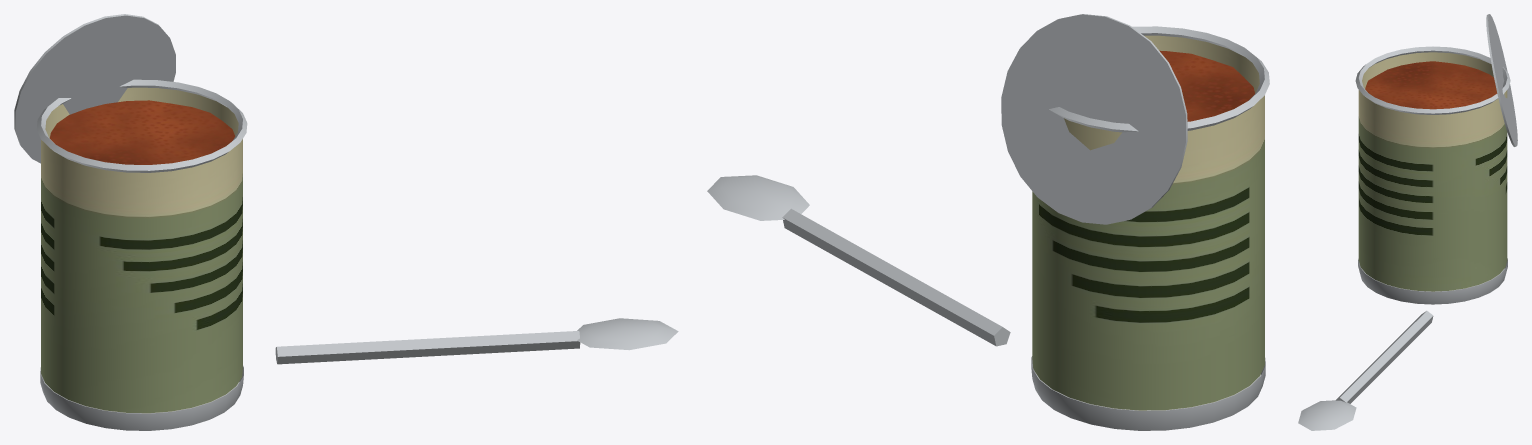
File: ration_canned_beans_open.glb
3 renders of one model, left to right at view 1: azimuth 30°, elevation 25°; view 2: azimuth 150°, elevation 25°; view 3: azimuth 270°, elevation 25°, orthographic. The views are drawn at different scales.
Visible parts, largest first — view 1: ration_canned_beans_open; view 2: ration_canned_beans_open; view 3: ration_canned_beans_open.
Boxes of the visible parts, x1=… form: ration_canned_beans_open: x1=14, y1=14, x2=678, y2=430; ration_canned_beans_open: x1=707, y1=14, x2=1269, y2=430; ration_canned_beans_open: x1=1298, y1=14, x2=1517, y2=430.
Bounding box in the file's own units: 0.2314 × 0.1409 × 0.1099.
3 materials, 2 textured.
